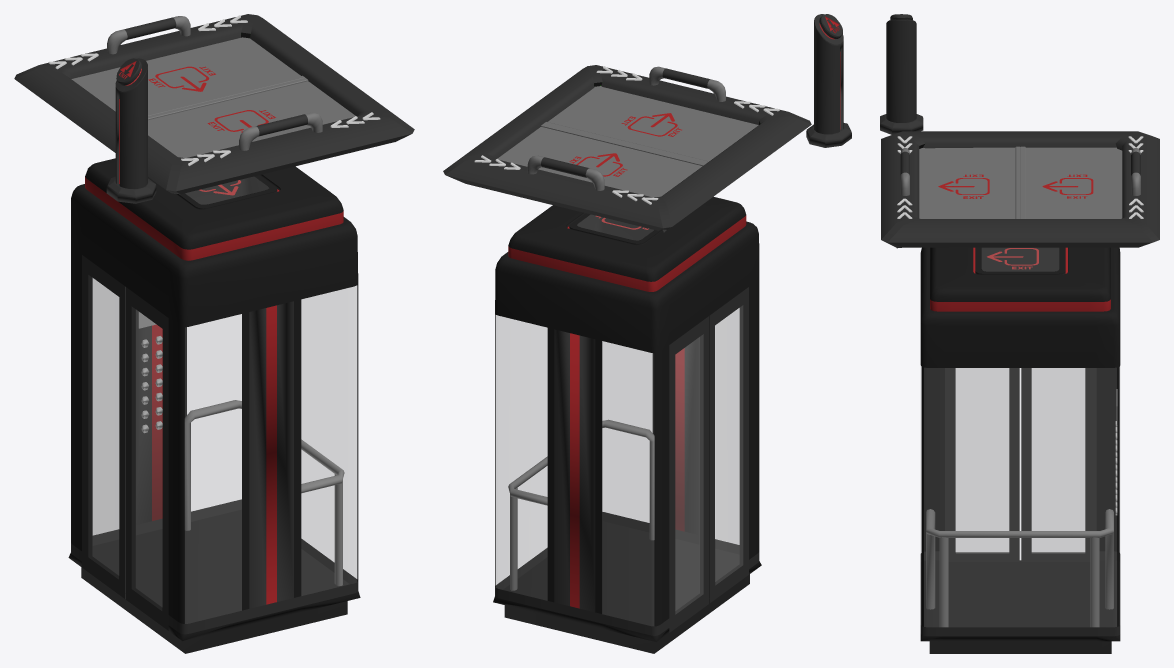
Rendered from id-elevator-exit.glb.
3 renders of one model, left to right at view 1: azimuth 30°, elevation 25°; view 2: azimuth 150°, elevation 25°; view 3: azimuth 270°, elevation 25°, orthographic. The views are drawn at different scales.
Parts seen in each view (by area): view 1: elevator_exit; view 2: elevator_exit; view 3: elevator_exit.
Boxes of the visible parts, box(x1,y1,x2,y2) form: elevator_exit: box(14, 14, 414, 653); elevator_exit: box(443, 14, 851, 653); elevator_exit: box(880, 14, 1159, 653).
Bounding box in the file's own units: 1.77 × 3.57 × 1.66.
Materials: 3 (2 with a texture image).
